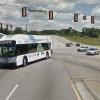Bus: (0, 29, 53, 67)
